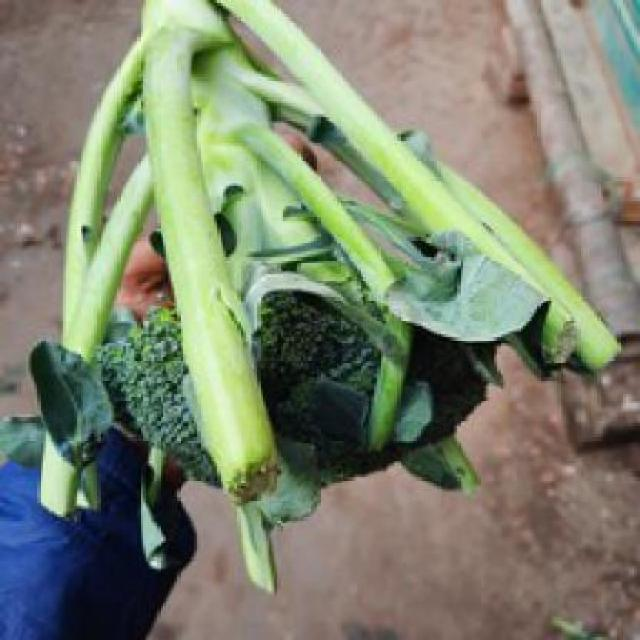broccoli: (63, 0, 508, 495)
